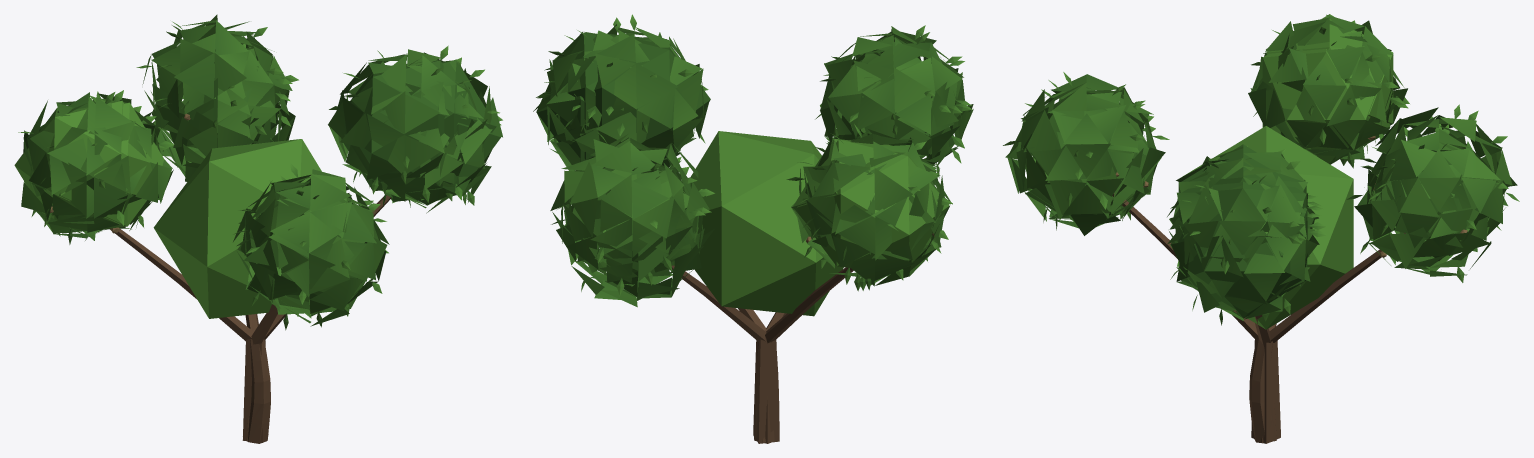
Rendered from kiwi.glb.
3 views of the same model, side by side, from view 1: azimuth 30°, elevation 25°; view 2: azimuth 150°, elevation 25°; view 3: azimuth 270°, elevation 25° (orthographic). The views are drawn at different scales.
Visible parts, largest first — view 1: leaves (×3), trunk; view 2: leaves (×3), trunk; view 3: leaves (×3), trunk.
Part boxes in pixels (left/top/right/bottom): leaves (×3): left=14, top=14, right=502, bottom=442; trunk: left=110, top=195, right=391, bottom=443; leaves (×3): left=533, top=14, right=973, bottom=443; trunk: left=671, top=265, right=853, bottom=442; leaves (×3): left=1003, top=14, right=1519, bottom=443; trunk: left=1112, top=193, right=1405, bottom=443.
Bounding box in the file's own units: 1.25 × 1 × 1.3.
